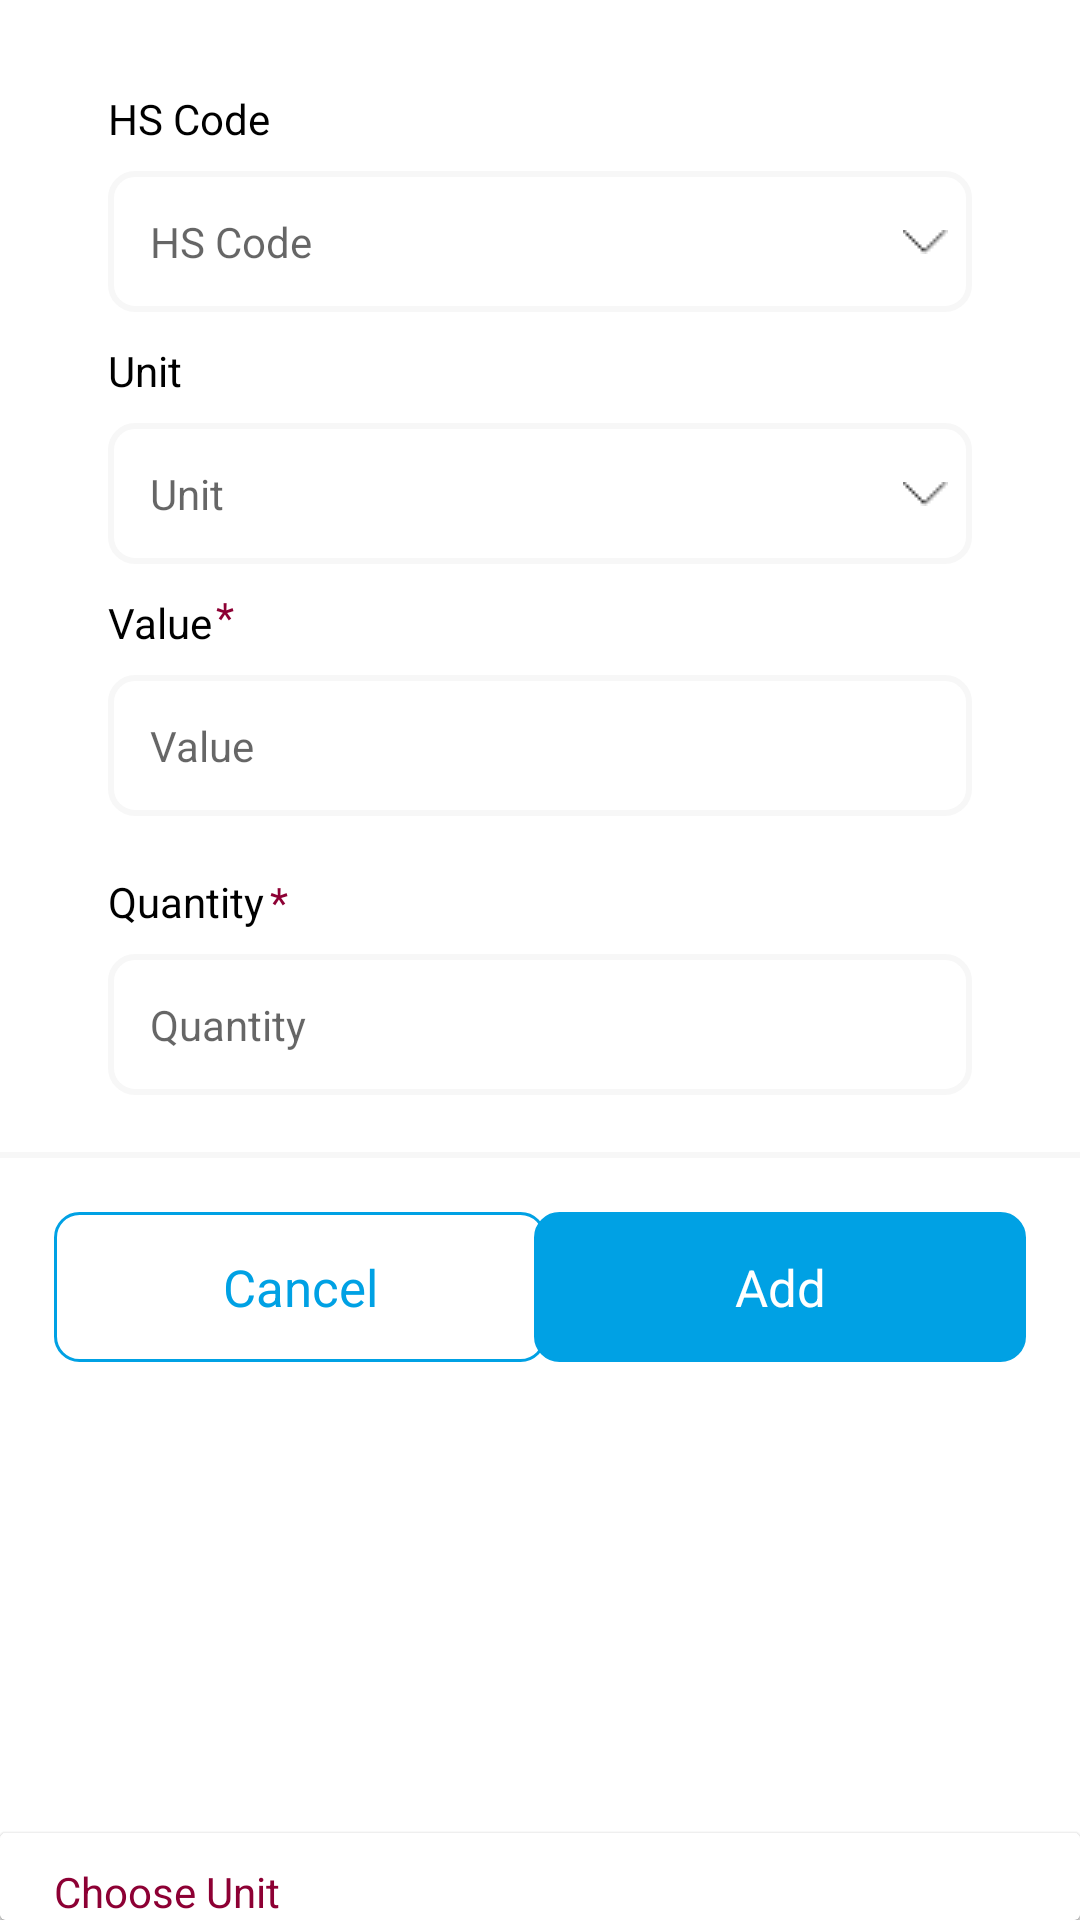

Icons on this 1080w x 1920h Android screen, each with its box as (x1, y1, x2, y2):
down arrow: (903, 230, 948, 254), (903, 482, 948, 506)
